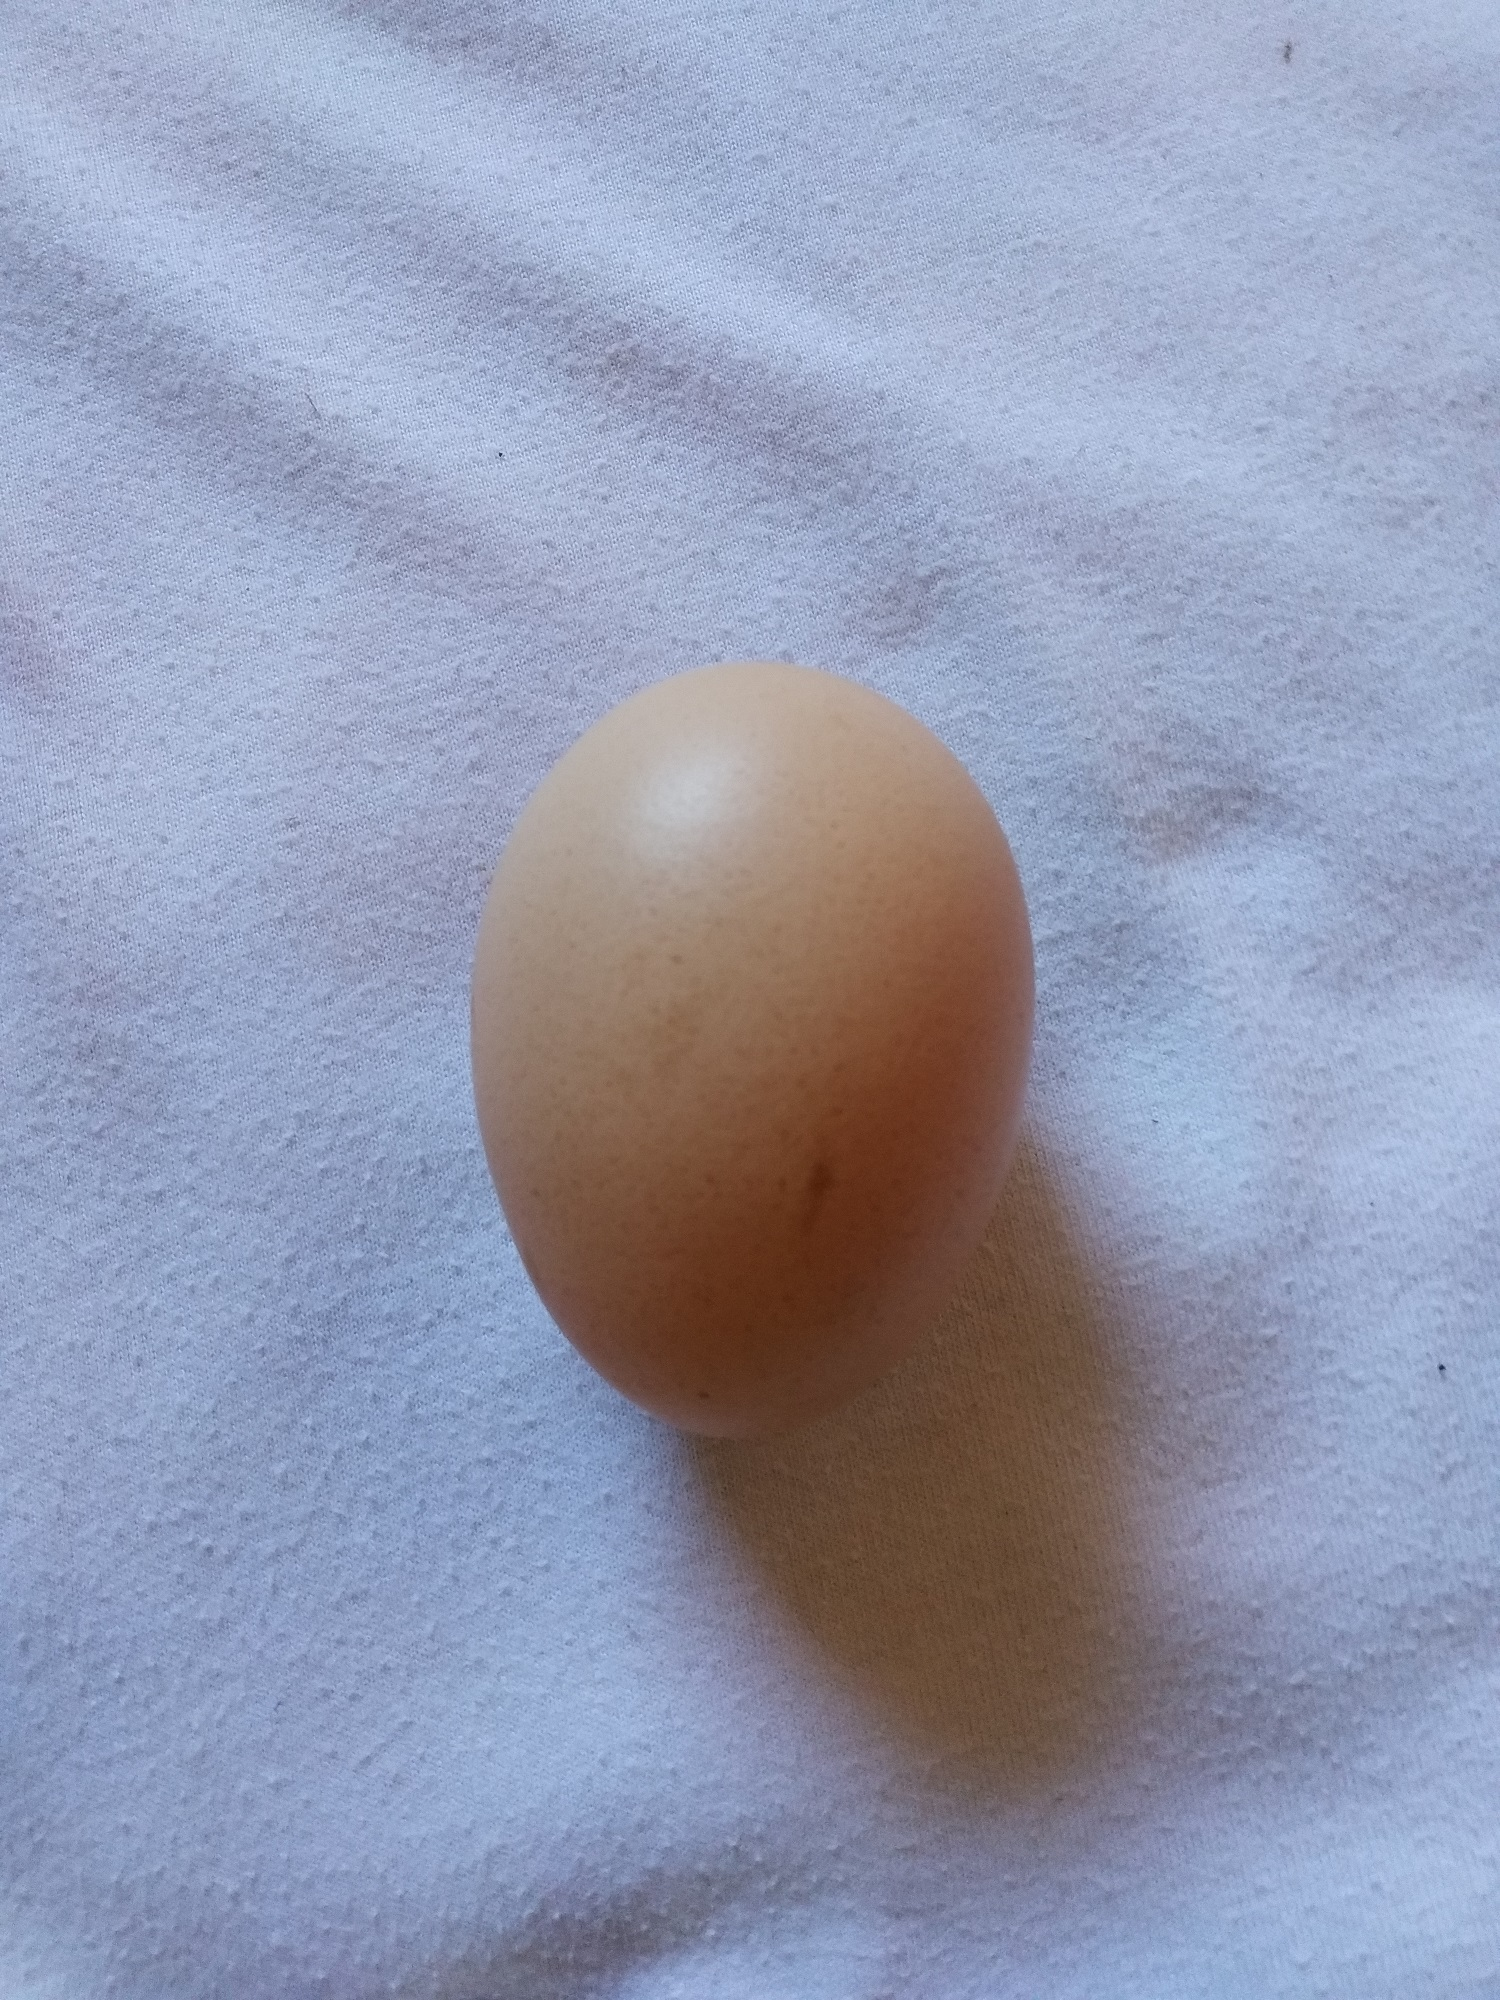Female: (463, 657, 1045, 1452)
